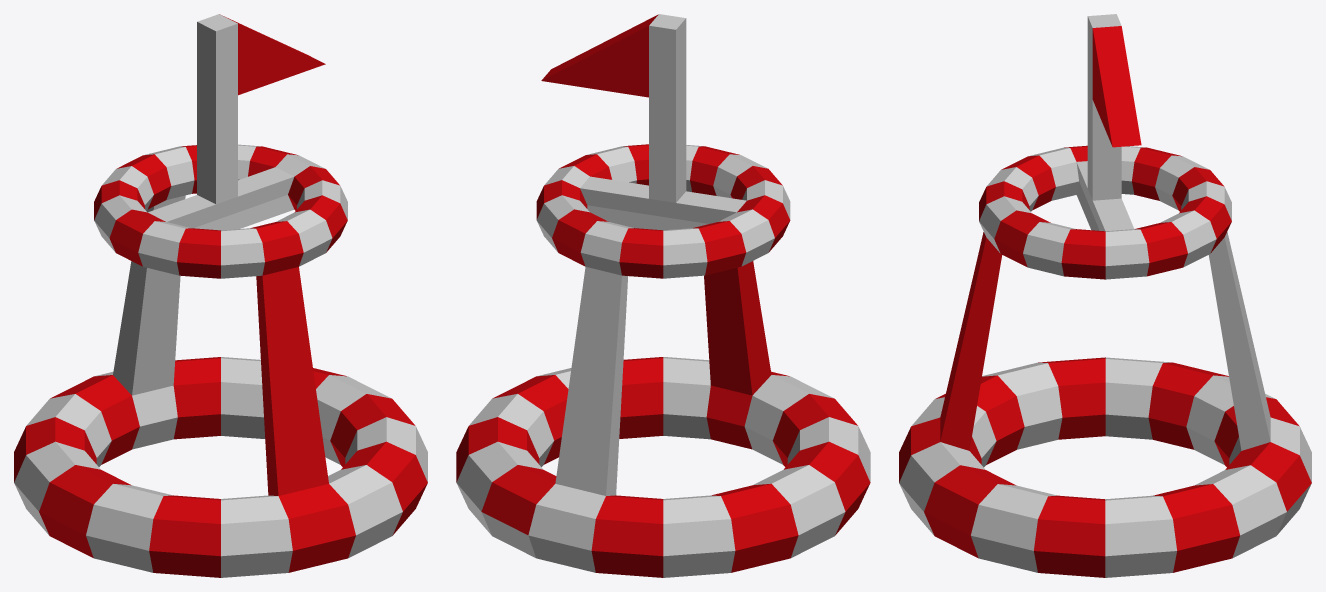
The model's file is Buoy.fbx.
The picture shows the model from 3 angles, left to right: view 1: azimuth 30°, elevation 25°; view 2: azimuth 150°, elevation 25°; view 3: azimuth 270°, elevation 25°; orthographic projection.
Parts seen in each view (by area): view 1: Torus; view 2: Torus; view 3: Torus.
Boxes of the visible parts, <box> form: Torus: <box>14,14,427,577</box>; Torus: <box>456,14,870,577</box>; Torus: <box>899,14,1311,577</box>.
Bounding box in the file's own units: 250 × 318 × 246.
